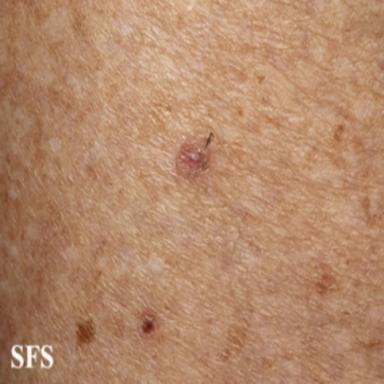Porokeratosis: (175, 131, 214, 177), (139, 307, 161, 336)
